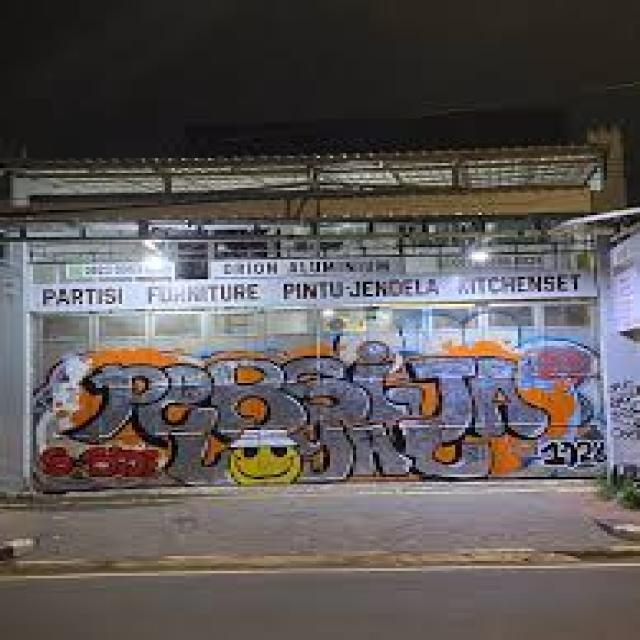-: (64, 340, 552, 482), (41, 447, 162, 484), (603, 378, 640, 442), (538, 438, 608, 466)
